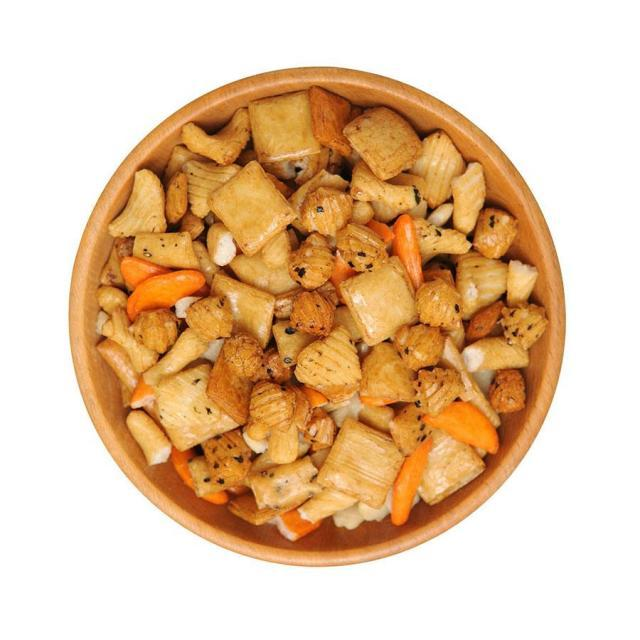Salatini: (114, 131, 522, 541)
